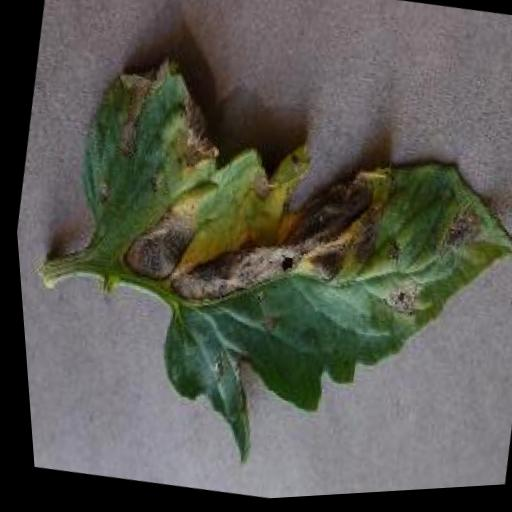Early Blight: (23, 28, 512, 511)
